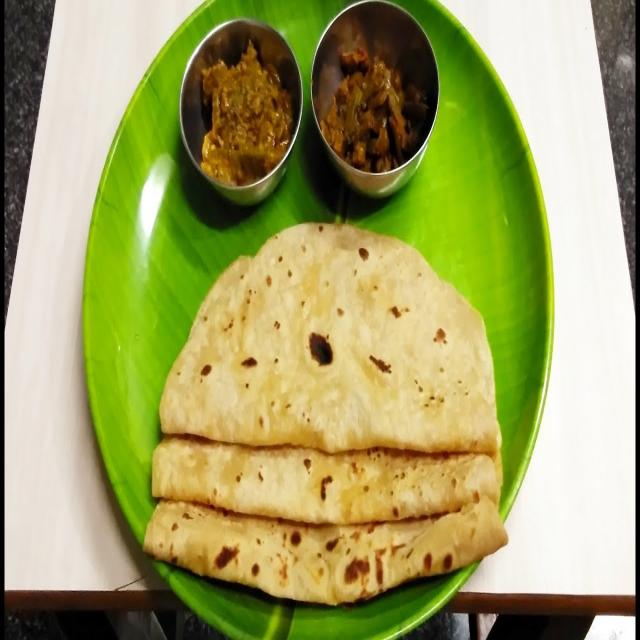chapathi: (146, 212, 504, 454), (138, 491, 521, 610), (146, 409, 510, 516)
